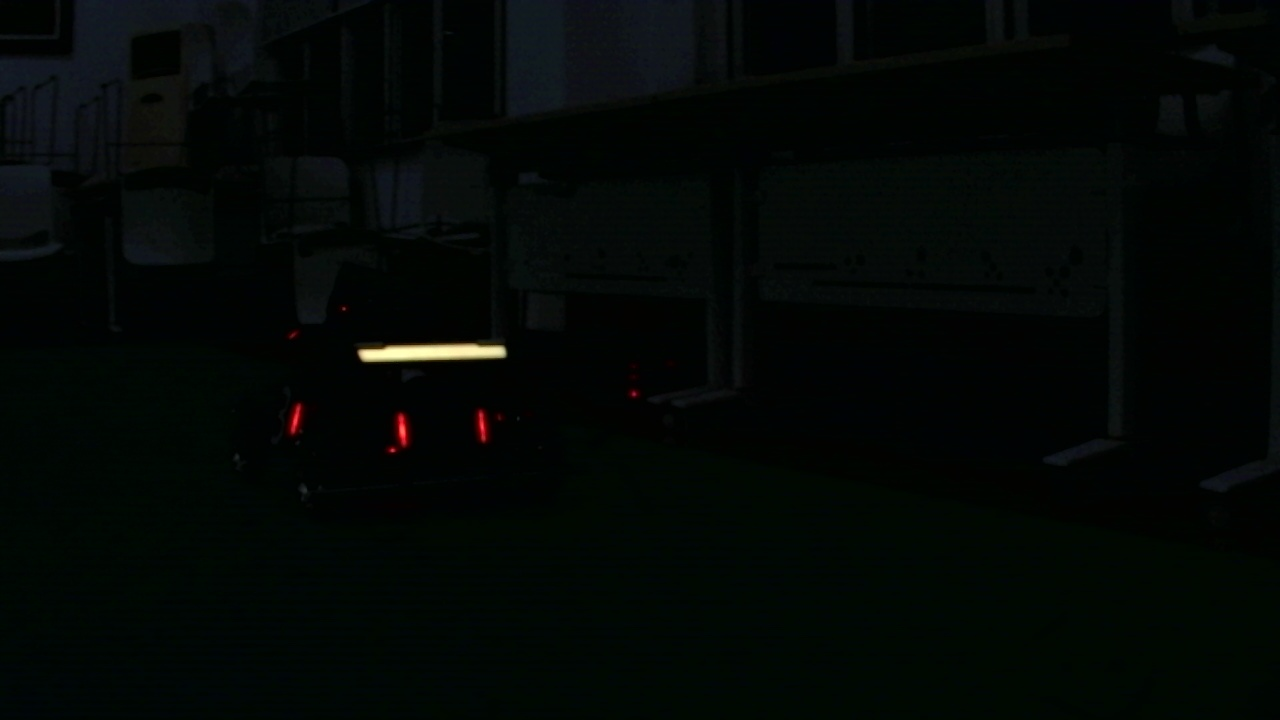lamp: (477, 402, 492, 452), (393, 406, 410, 448), (289, 397, 299, 434)
pair1: (392, 411, 488, 445)
